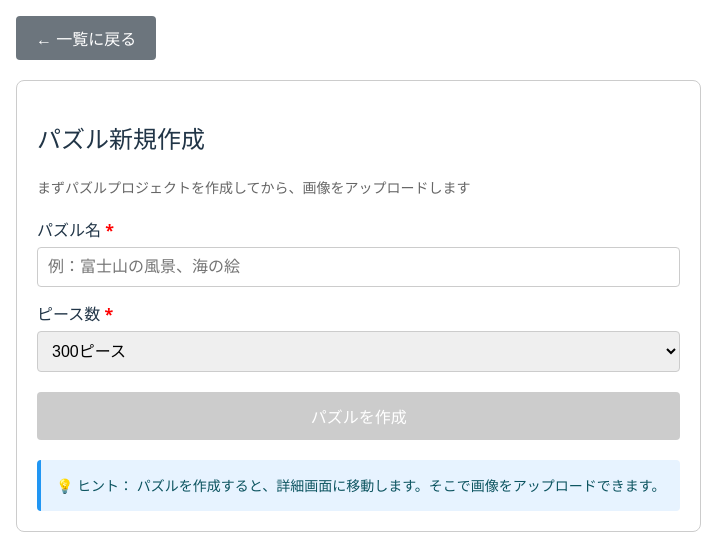
Scenario: PuzzleCreate › 空のパズル名で作成を試みるとエラーメッセージが表示される
The image size is (718, 549).
// 一度入力してからクリアすることでボタンを有効化→無効化する
Type "テスト" into the field with placeholder "例：富士山の風景、海の絵" at (359, 267), box [37,247,680,287]
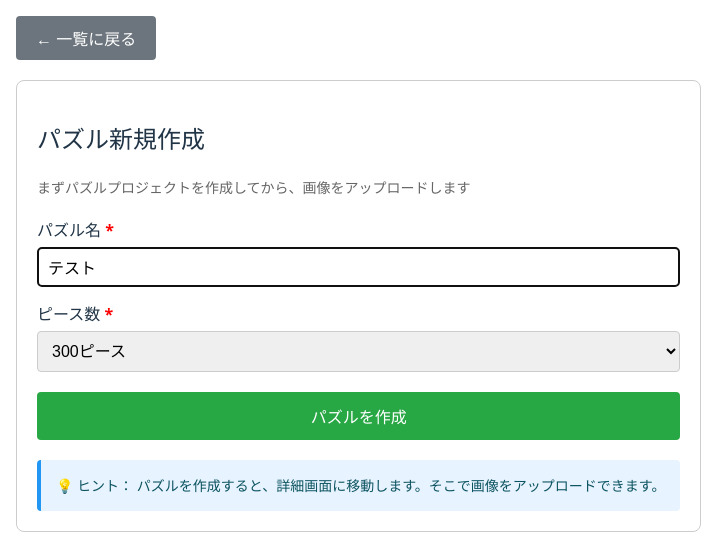
Clear the field with placeholder "例：富士山の風景、海の絵" at (359, 267), box [37,247,680,287]
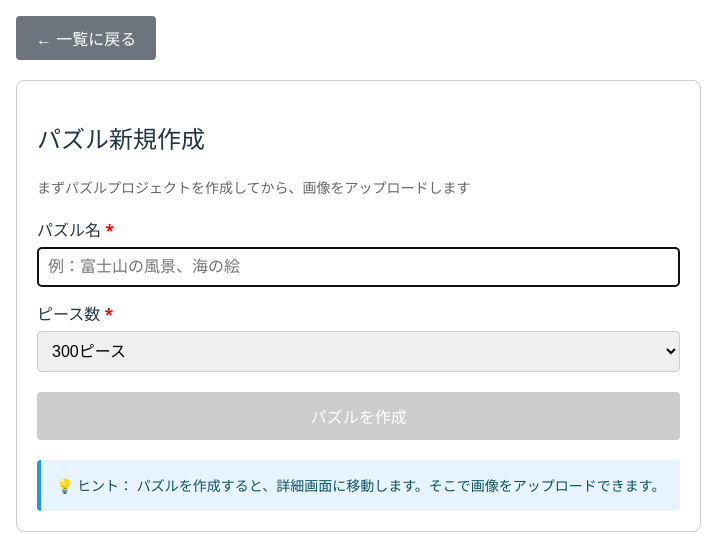
Expected: the button "パズルを作成" is disabled, [37,392,680,440]
